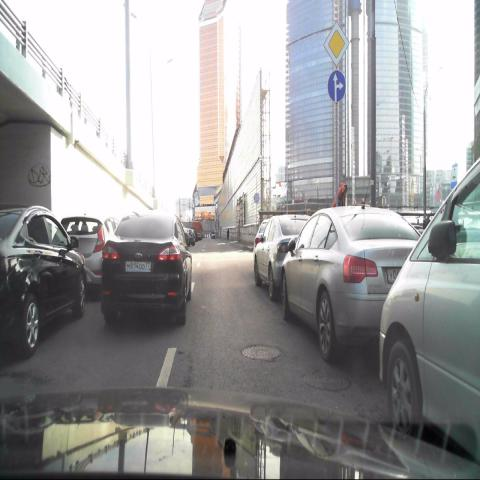7_5: (451, 161, 459, 192)
